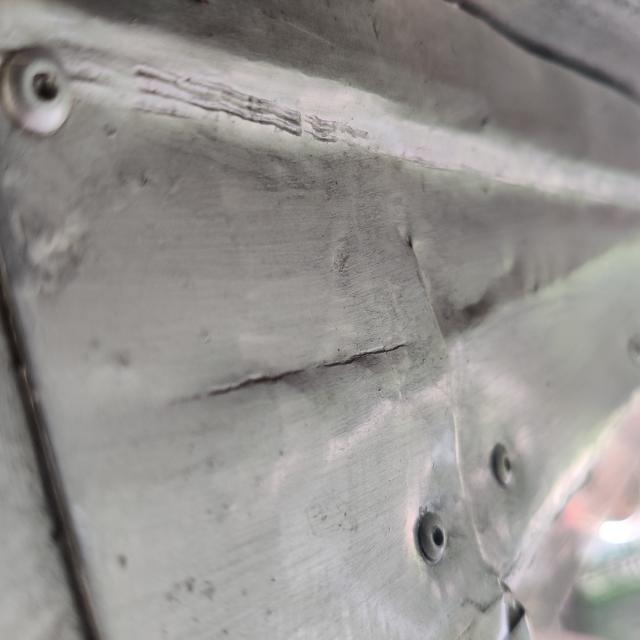scratch: (175, 294, 420, 440)
